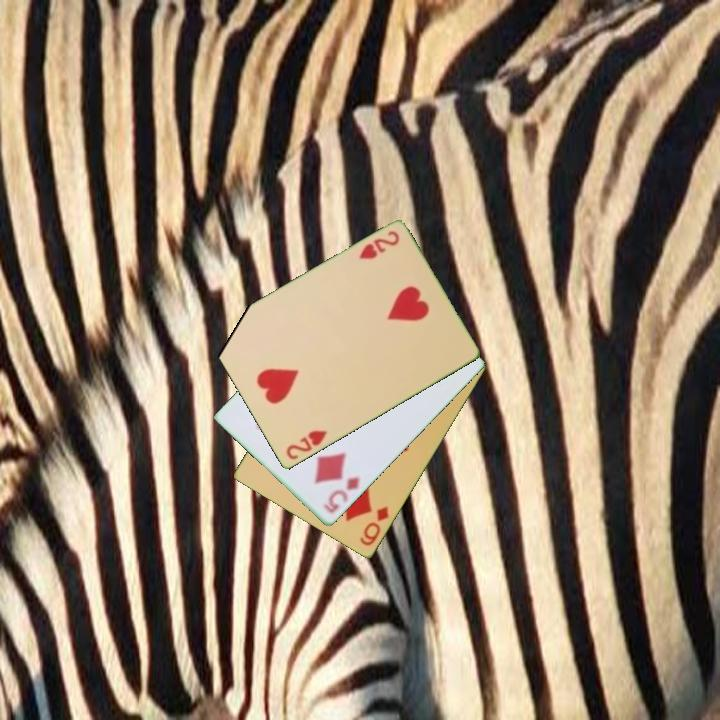2h: (282, 427, 330, 463), (355, 227, 402, 263)
5d: (319, 473, 363, 517)
6d: (356, 503, 392, 549)
